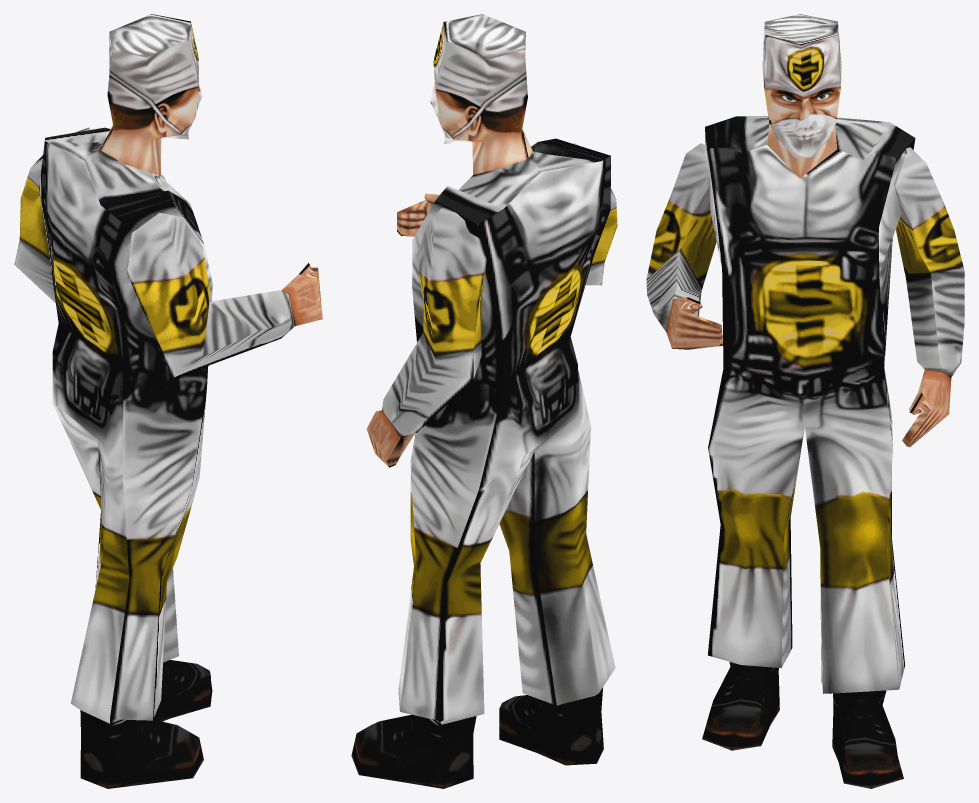
Rendered from medic2_yellow.glb.
The picture shows the model from 3 angles, left to right: view 1: azimuth 30°, elevation 25°; view 2: azimuth 150°, elevation 25°; view 3: azimuth 270°, elevation 25°; orthographic projection.
Parts seen in each view (by area): view 1: medic2; view 2: medic2; view 3: medic2.
Boxes of the visible parts, bbox=[...] form: medic2: bbox=[14, 14, 322, 788]; medic2: bbox=[351, 14, 617, 788]; medic2: bbox=[646, 14, 964, 788].
Size of the model in its own units: 24.12 by 73.62 by 29.5.
1 material, 1 textured.
